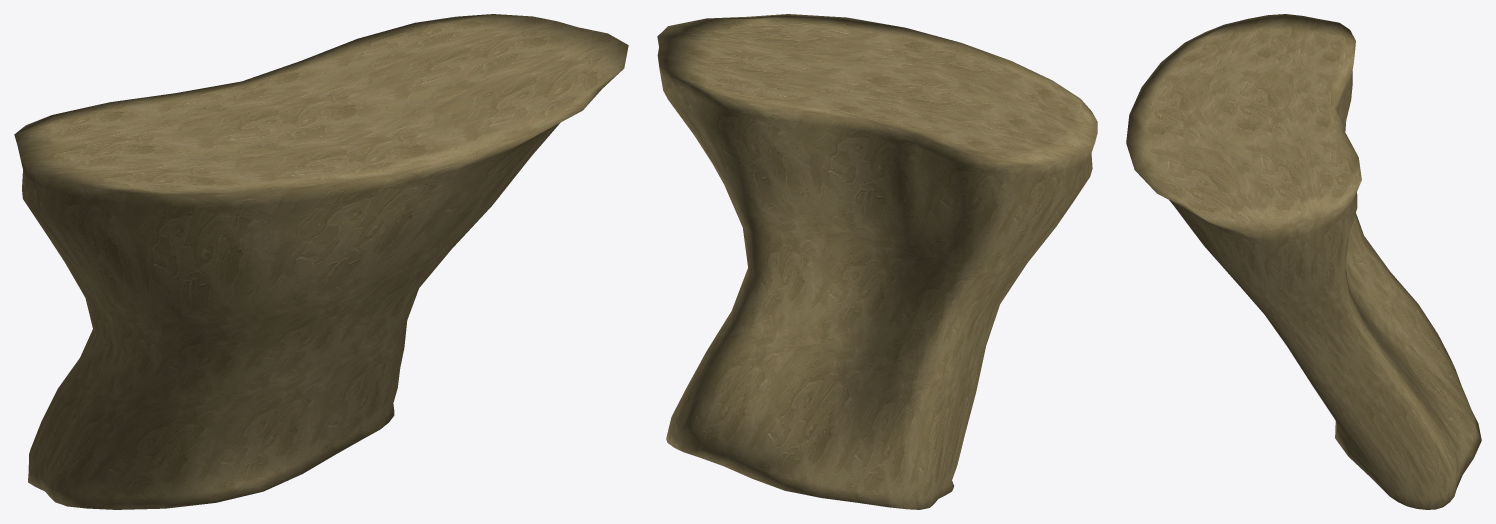
Rendered from SB_PLATFORMB.fbx.
3 views of the same model, side by side, from view 1: azimuth 30°, elevation 25°; view 2: azimuth 150°, elevation 25°; view 3: azimuth 270°, elevation 25° (orthographic). The views are drawn at different scales.
Visible parts, largest first — view 1: SB_PLATFORMB; view 2: SB_PLATFORMB; view 3: SB_PLATFORMB.
Boxes of the visible parts, x1,y1,x2,y2 form: SB_PLATFORMB: [14, 14, 628, 509]; SB_PLATFORMB: [657, 14, 1097, 509]; SB_PLATFORMB: [1126, 14, 1481, 509].
Size of the model in its own units: 202070 by 140289 by 139298.
1 material, 1 textured.
